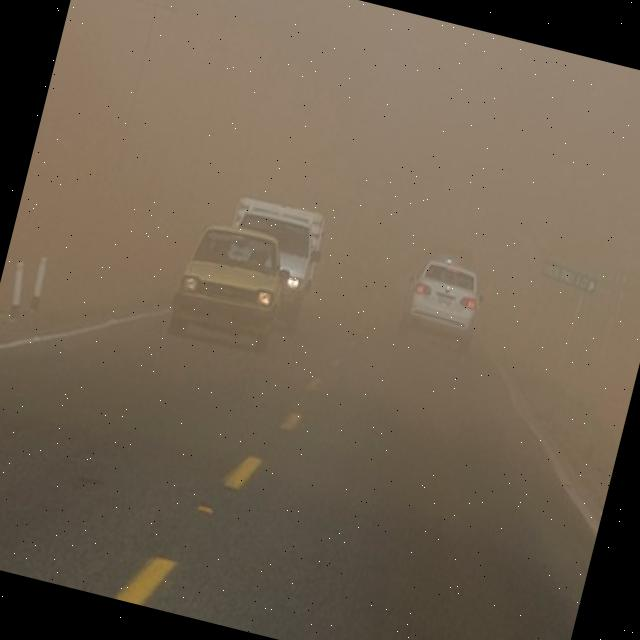bus: (212, 195, 326, 325)
car: (169, 220, 293, 360), (404, 252, 491, 341)
